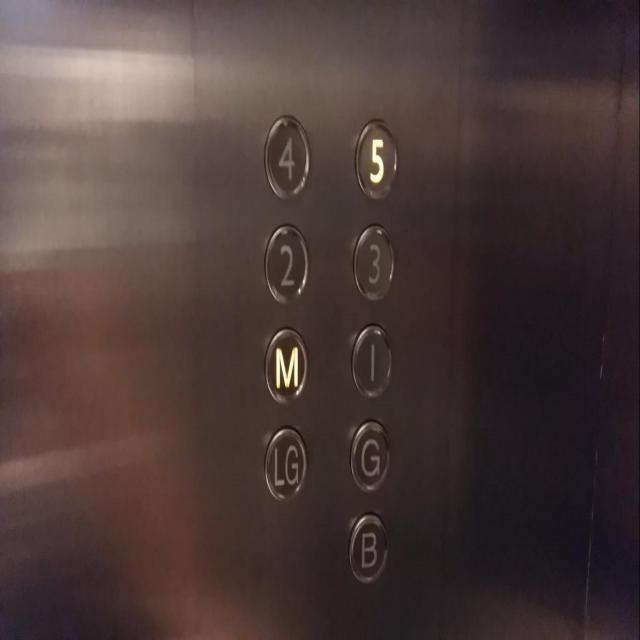1: (350, 319, 392, 397)
2: (263, 221, 310, 304)
3: (352, 220, 394, 301)
4: (264, 112, 310, 200)
5: (354, 116, 398, 201)
B: (347, 509, 388, 584)
G: (348, 415, 390, 493)
LG: (263, 422, 307, 503)
M: (263, 323, 308, 405)
